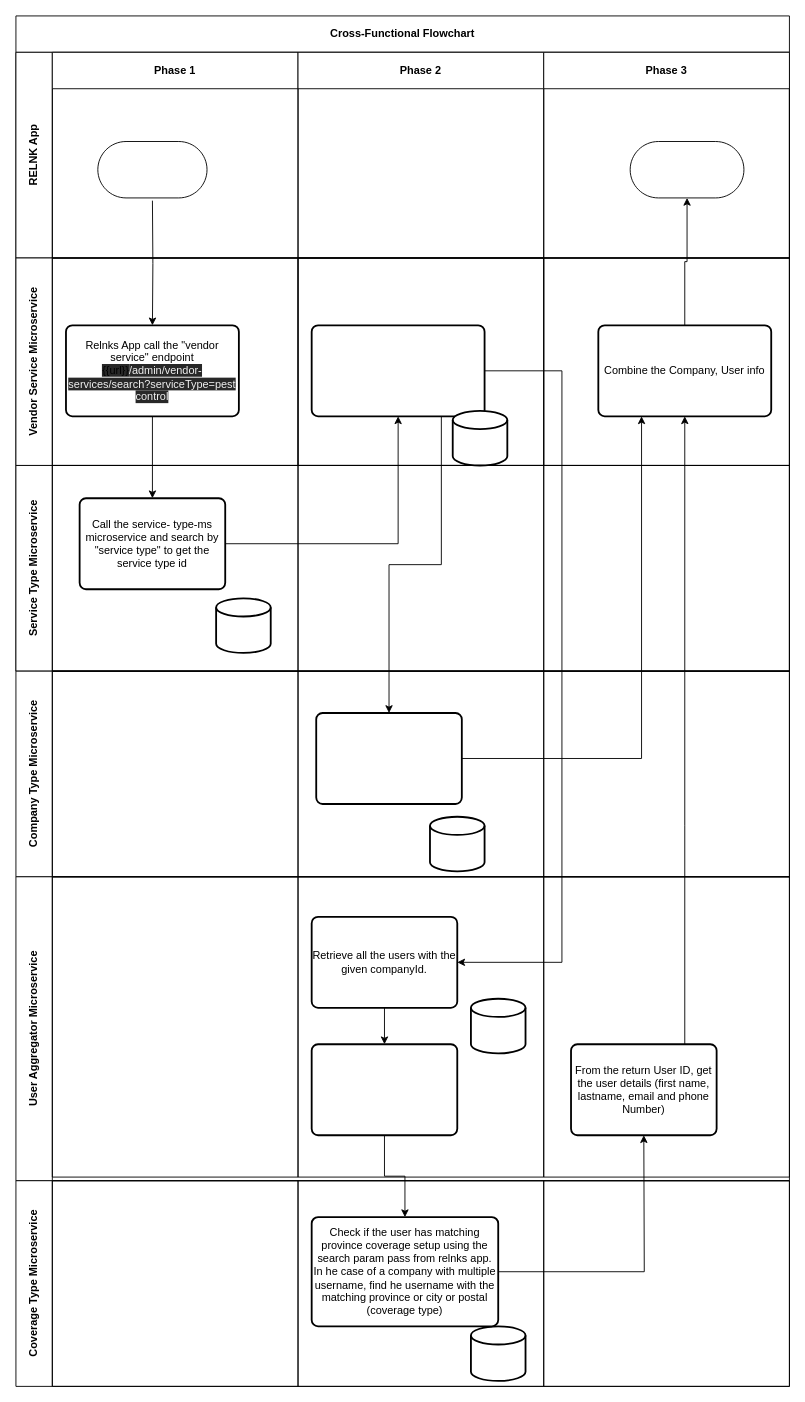
This 805x1402 diagram has some shape labels left out. Here are the shapes that lost their labels. From the top down, the centre of each, then its label:
pixel 397 370: Look up the Vendor Service Database and filter by "service_type_id"
pixel 388 758: Get the company Info using the company Id
pixel 384 1089: With the list of UserID, Check the coverage
